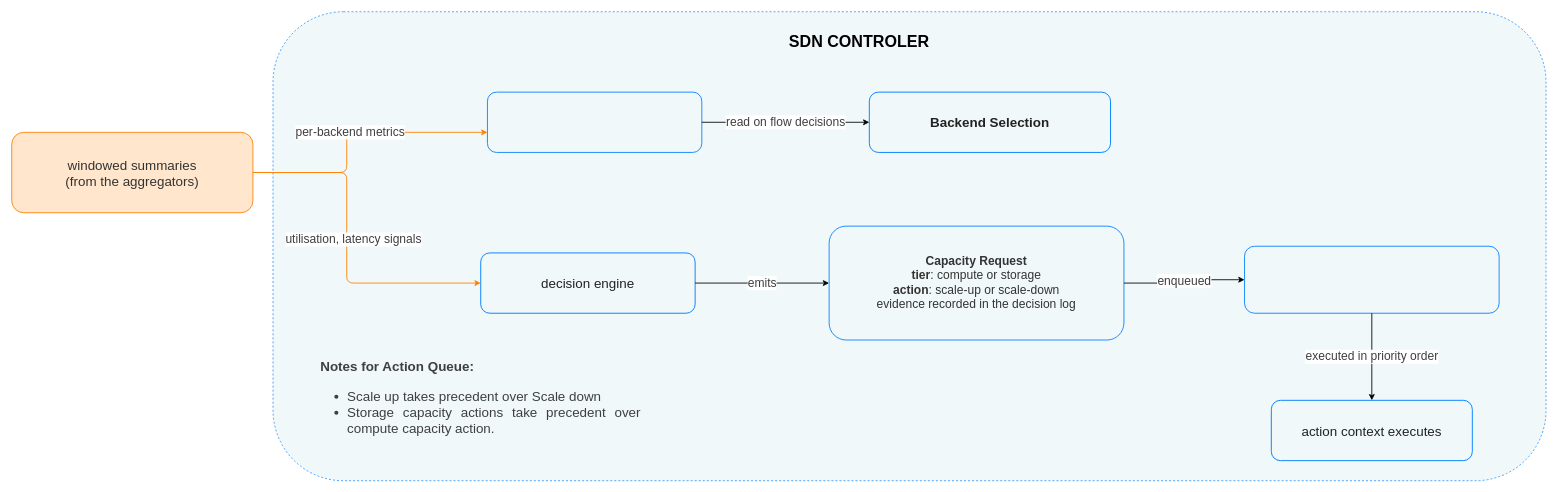
Image size: 1558x492. Some labels were removed from this diagram. Each missing label, with the box of its shape:
Action Queue: (1244, 245, 1499, 313)
routing state: (487, 91, 702, 153)
